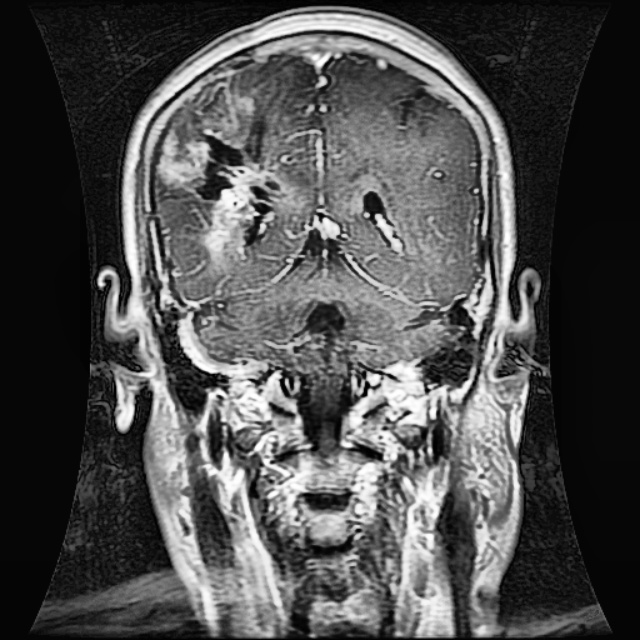Meningioma: (158, 75, 298, 262)
